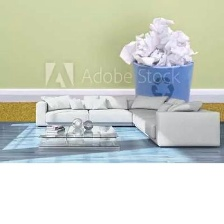book: (114, 16, 203, 69)
